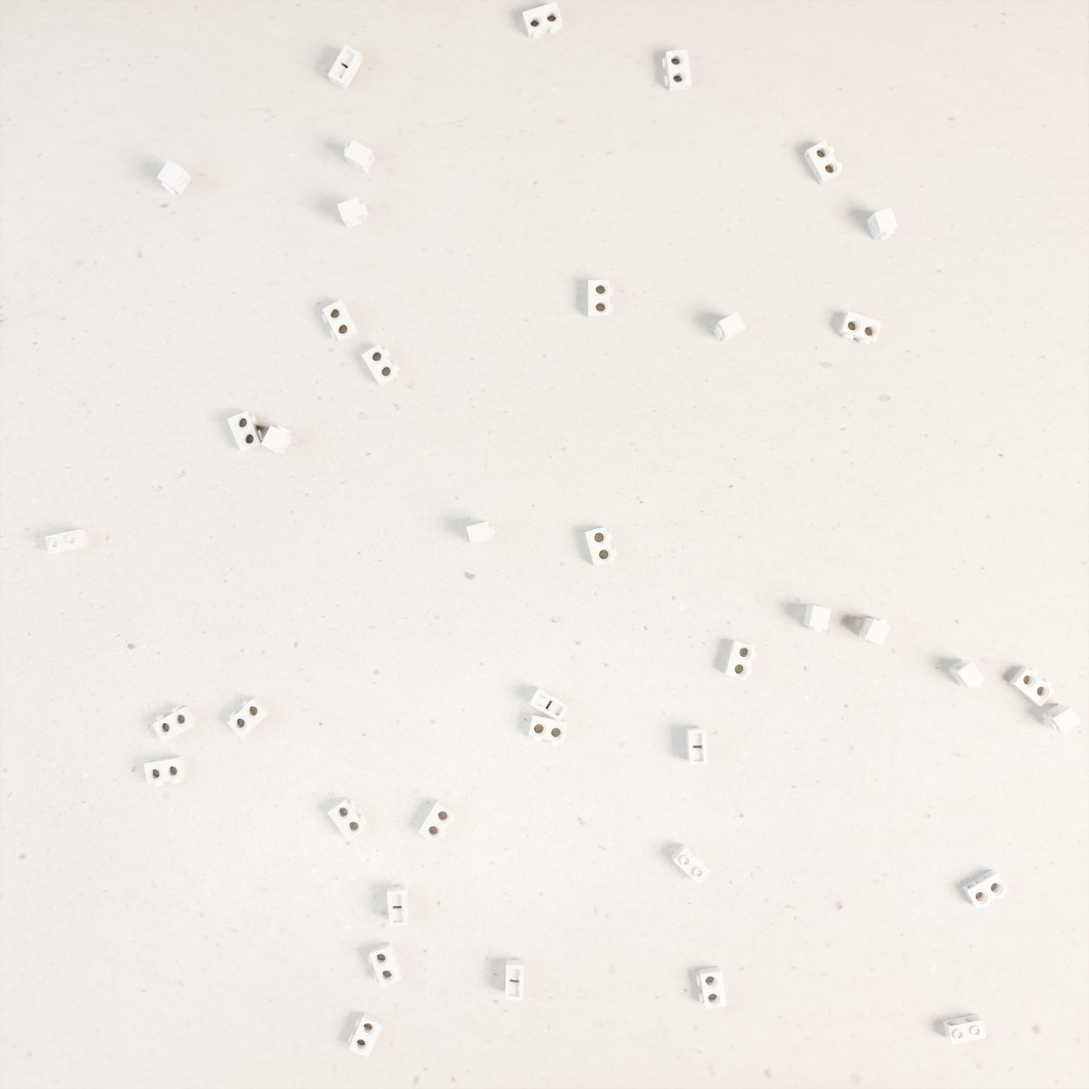lego: (1009, 666, 1055, 707), (962, 869, 1008, 909), (227, 697, 270, 739), (327, 798, 367, 841), (152, 705, 197, 743), (418, 799, 456, 844), (804, 140, 842, 185), (361, 344, 400, 387), (348, 1012, 384, 1058), (671, 844, 711, 885), (322, 299, 359, 343), (328, 44, 363, 90), (227, 411, 264, 453), (368, 942, 402, 987), (839, 311, 882, 346), (522, 2, 562, 39), (529, 687, 569, 722), (723, 640, 757, 680), (696, 966, 727, 1009), (144, 756, 186, 787), (943, 1014, 986, 1044), (584, 527, 617, 566), (157, 159, 192, 195), (528, 713, 567, 745), (662, 49, 691, 92), (1042, 703, 1081, 734), (948, 659, 985, 689), (45, 529, 89, 554), (344, 139, 375, 174), (867, 207, 898, 241), (337, 197, 369, 228), (858, 616, 890, 646), (714, 312, 746, 342), (261, 425, 293, 455), (588, 280, 613, 318), (387, 886, 409, 927), (686, 727, 708, 766), (505, 959, 524, 1001), (803, 604, 831, 632), (466, 522, 495, 544)
